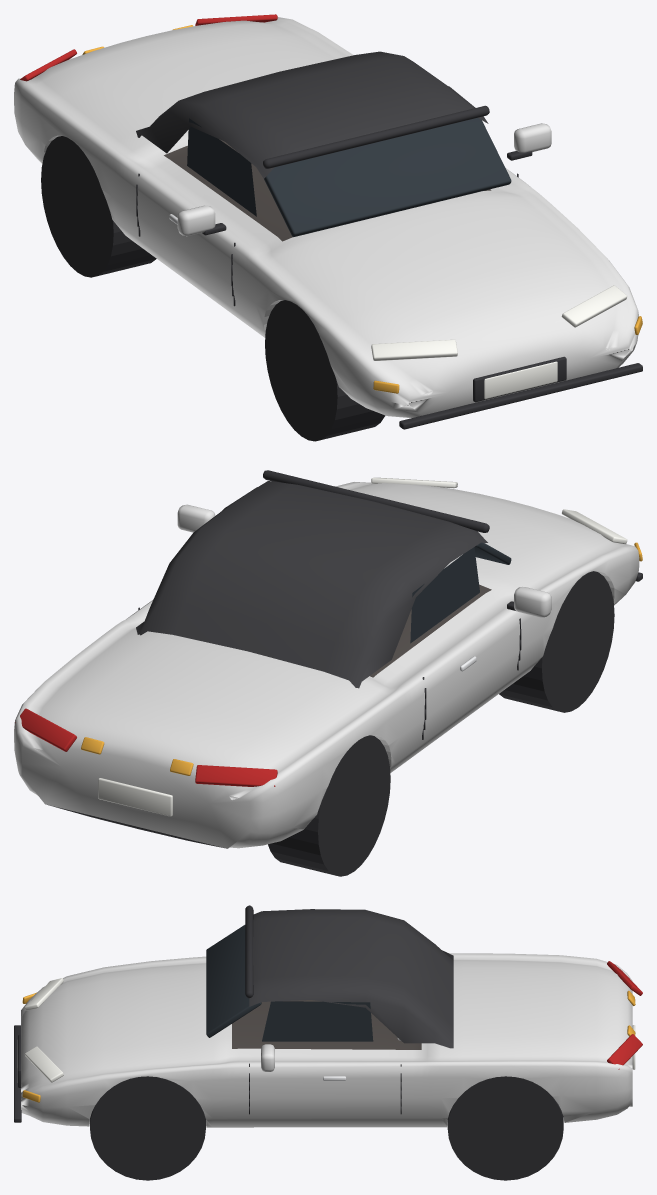
File: roadster.glb
3 renders of one model, top to bottom at view 1: azimuth 30°, elevation 25°; view 2: azimuth 150°, elevation 25°; view 3: azimuth 270°, elevation 25°, orthographic. The views are drawn at different scales.
Visible parts, largest first — view 1: roadster, softtop, windscreen, roadster_well, roadster_well.002, sideglass, splitter, ws_frame, plate_f, headlight, headlight.001, mirror (+2 smaller); view 2: roadster, softtop, roadster_well.002, roadster_well, sideglass, ws_frame, plate_r, taillight, taillight.001, mirror, mirror.001, headlight; view 3: roadster, softtop, roadster_well.003, roadster_well.001, sideglass.001, windscreen, ws_frame, headlight.001, taillight.001, splitter, headlight.
Part boxes in pixels (x1=…): roadster: x1=14, y1=17, x2=638, y2=418; softtop: x1=136, y1=51, x2=488, y2=178; windscreen: x1=264, y1=117, x2=511, y2=236; roadster_well: x1=265, y1=300, x2=385, y2=441; roadster_well.002: x1=41, y1=136, x2=156, y2=277; sideglass: x1=187, y1=118, x2=256, y2=216; splitter: x1=399, y1=363, x2=642, y2=429; ws_frame: x1=263, y1=105, x2=489, y2=168; plate_f: x1=484, y1=361, x2=557, y2=399; headlight: x1=371, y1=339, x2=457, y2=360; headlight.001: x1=561, y1=285, x2=627, y2=327; mirror: x1=177, y1=205, x2=215, y2=236; roadster: x1=14, y1=482, x2=639, y2=848; softtop: x1=136, y1=481, x2=487, y2=688; roadster_well.002: x1=268, y1=735, x2=390, y2=876; roadster_well: x1=499, y1=571, x2=614, y2=712; sideglass: x1=410, y1=547, x2=479, y2=643; ws_frame: x1=263, y1=470, x2=489, y2=532; plate_r: x1=98, y1=778, x2=172, y2=816; taillight: x1=195, y1=765, x2=277, y2=786; taillight.001: x1=15, y1=708, x2=76, y2=751; mirror: x1=514, y1=586, x2=551, y2=617; mirror.001: x1=177, y1=504, x2=215, y2=532; headlight: x1=561, y1=509, x2=627, y2=544; roadster: x1=21, y1=953, x2=632, y2=1127; softtop: x1=249, y1=909, x2=453, y2=1048; roadster_well.003: x1=447, y1=1076, x2=563, y2=1180; roadster_well.001: x1=90, y1=1076, x2=205, y2=1180; sideglass.001: x1=262, y1=1001, x2=373, y2=1041; windscreen: x1=206, y1=925, x2=261, y2=1037; ws_frame: x1=245, y1=905, x2=253, y2=998; headlight.001: x1=24, y1=1046, x2=63, y2=1082; taillight.001: x1=607, y1=1034, x2=642, y2=1069; splitter: x1=14, y1=1025, x2=21, y2=1122; headlight: x1=24, y1=978, x2=63, y2=1010.
Bounding box in the file's own units: 2.2 × 1.29 × 4.06.
